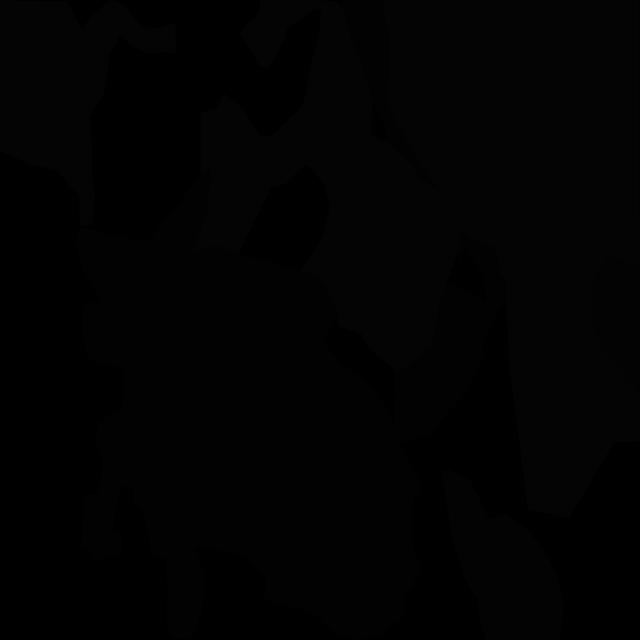cardboard: (76, 170, 506, 640), (342, 0, 437, 188)
metal: (441, 470, 564, 640), (594, 256, 640, 392)
soft_plastic: (189, 0, 640, 518), (0, 0, 176, 227)
